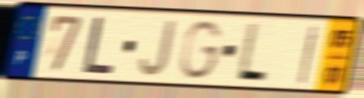7: (50, 14, 83, 74)
G: (178, 19, 226, 82)
I: (296, 23, 322, 86)
J: (137, 18, 179, 78)
L: (233, 21, 269, 85), (80, 14, 116, 76)
